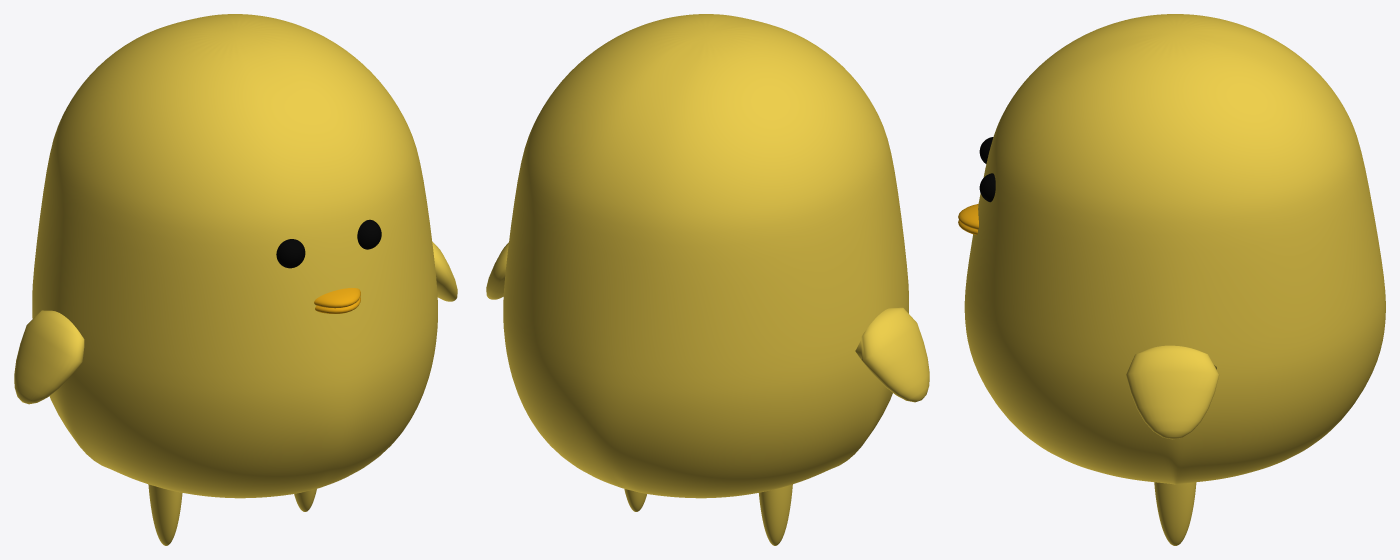
File: chick.glb
3 views of the same model, side by side, from view 1: azimuth 30°, elevation 25°; view 2: azimuth 150°, elevation 25°; view 3: azimuth 270°, elevation 25° (orthographic). The views are drawn at different scales.
Visible parts, largest first — view 1: Sphere, 구체, 구체.001, 구체.002; view 2: Sphere, 구체; view 3: Sphere, 구체, 구체.001, 구체.002.
Part boxes in pixels (box(x1,y1,x2,y2)): Sphere: box(32, 14, 437, 545); 구체: box(14, 242, 457, 404); 구체.001: box(276, 219, 381, 268); 구체.002: box(314, 288, 360, 313); Sphere: box(503, 14, 908, 545); 구체: box(486, 242, 929, 402); Sphere: box(964, 14, 1385, 545); 구체: box(1126, 345, 1219, 439); 구체.001: box(979, 137, 995, 202); 구체.002: box(958, 204, 978, 234).
Bounding box in the file's own units: 2.49 × 2.73 × 2.2.
